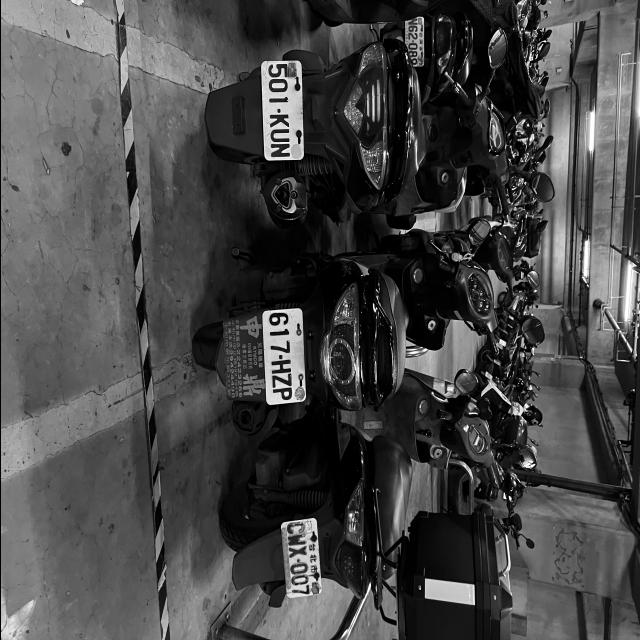-: (276, 108, 282, 114), (277, 355, 283, 360), (295, 558, 300, 562), (411, 41, 413, 42)
0: (268, 78, 288, 94), (289, 561, 308, 576), (290, 574, 309, 588), (407, 42, 417, 51)
1: (268, 95, 290, 104), (268, 329, 288, 337)
2: (407, 33, 417, 40)
5: (266, 63, 288, 78)
6: (268, 310, 288, 326), (407, 26, 417, 32)
7: (270, 339, 290, 354), (290, 584, 309, 596)
C: (285, 521, 304, 535)
H: (271, 360, 291, 374)
K: (268, 114, 288, 128)
N: (270, 143, 290, 159)
P: (272, 388, 292, 400)
U: (270, 128, 290, 144)
W: (287, 532, 306, 546)
X: (287, 545, 307, 559)
Z: (271, 373, 291, 388)
plate: (264, 62, 300, 160), (264, 309, 300, 403), (282, 519, 319, 599)
